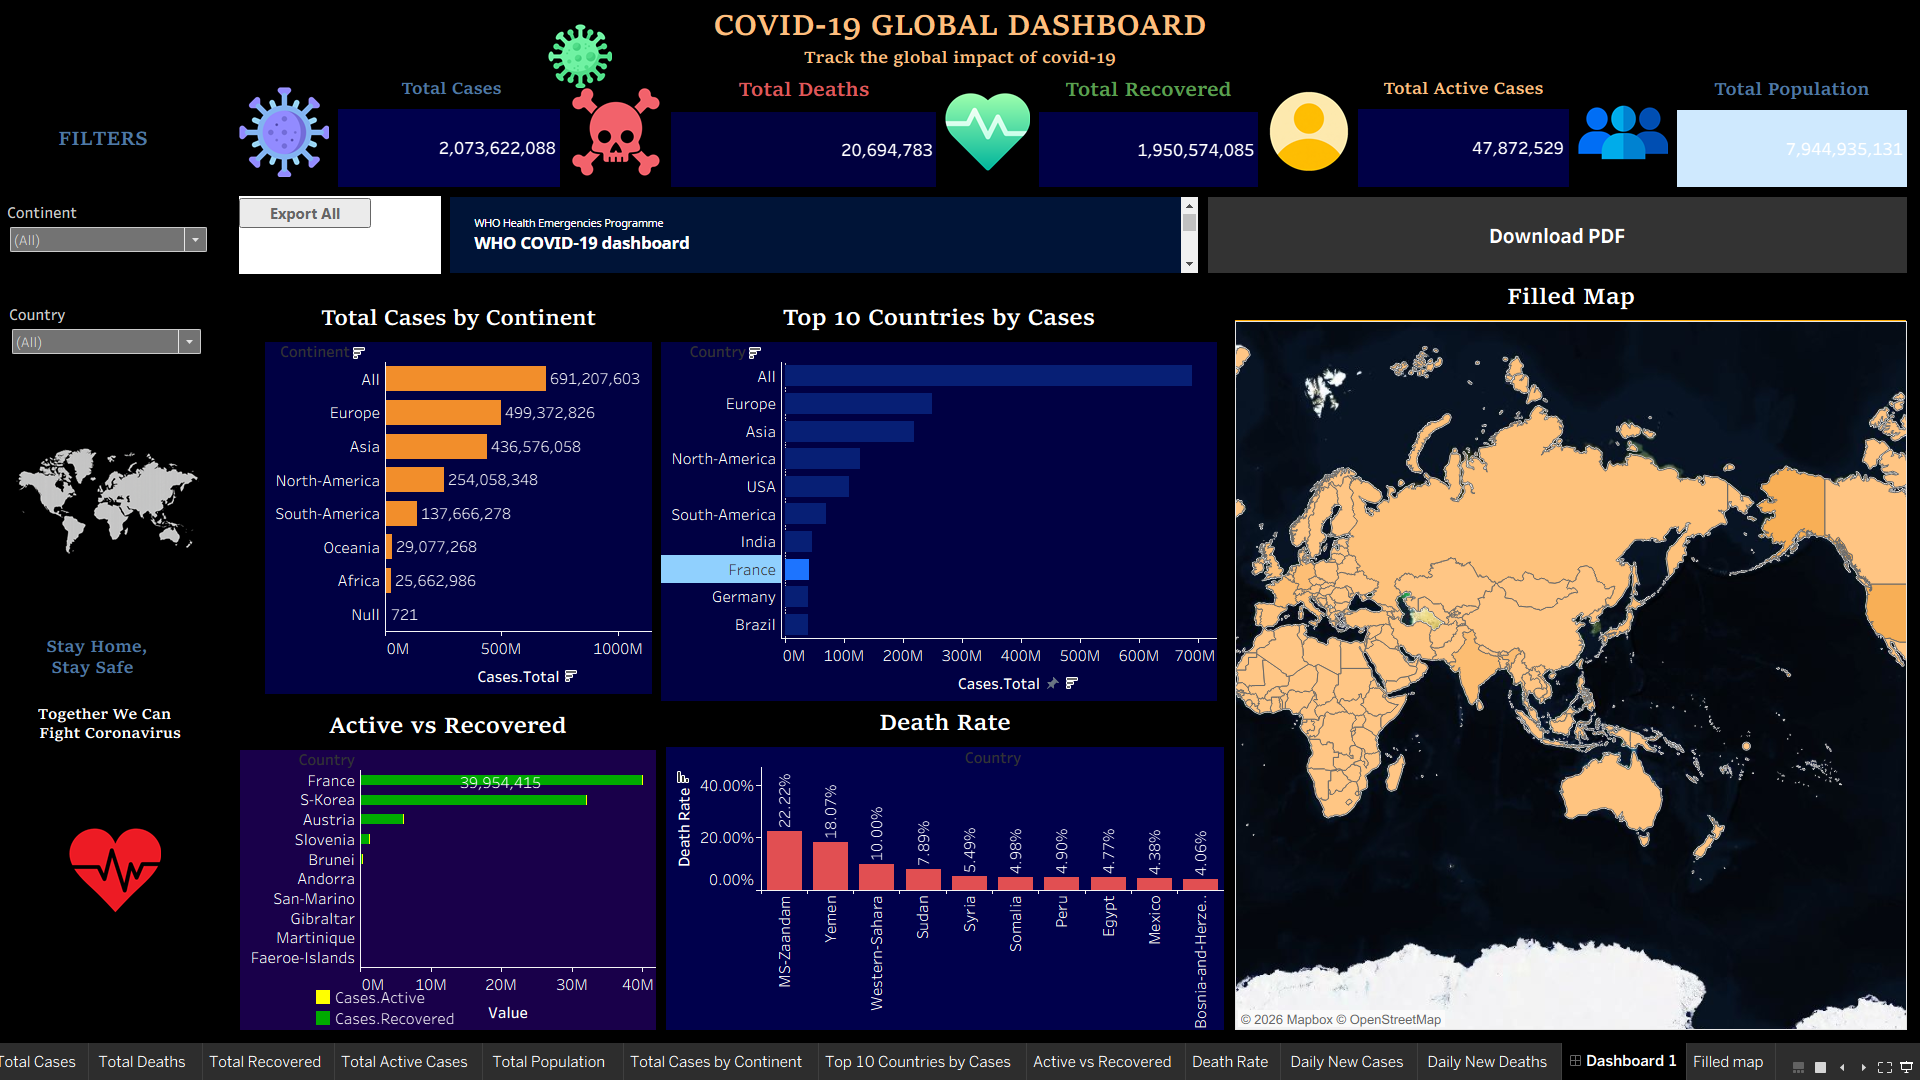

The page's visual inventory and layout, read from the dashboard file:
{"tool":"tableau","page":{"name":"Dashboard 1","canvas":[1000,1000],"units":"permille","ordinal":0},"visuals":[{"type":"title","box":[11.5,9.5,977,76.1]},{"type":"image","param":"Image/virus.png","box":[273.7,18.8,57.1,69.3]},{"type":"text","box":[11.5,85.6,116.7,904.9]},{"type":"image","param":"Image/virus (1).png","box":[128.2,85.6,50.1,112.5]},{"type":"image","param":"Image/danger.png","box":[297.1,85.6,51.8,112.5]},{"type":"image","param":"Image/ekg.png","box":[490.4,85.6,47.8,112.5]},{"type":"image","param":"Image/ChatGPT Image Jul 8, 2026, 08_36_25 PM.png","box":[655.8,85.6,45.9,112.5]},{"type":"image","param":"Image/audience.png","box":[815.3,85.6,50.1,112.5]},{"type":"text","box":[6.5,85.8,95,96.4]},{"type":"worksheet","title":" Total Cases","mark":"Automatic","box":[179.7,86.8,115.9,110.1]},{"type":"worksheet","title":" Total Deaths ","mark":"Automatic","box":[350.3,86.8,138.6,110.1]},{"type":"worksheet","title":"Total Recovered","mark":"Automatic","box":[539.6,86.8,114.8,110.1]},{"type":"worksheet","title":"Total Active Cases","mark":"Automatic","box":[703.2,86.8,110.7,110.1]},{"type":"worksheet","title":" Total Population ","mark":"Automatic","box":[866.8,86.8,120.3,110.1]},{"type":"filter","title":"Total Cases by Continent","param":"[federated.0fb30rt17e1cgw10ygbpq0j1185i].[none:Continent:nk]","box":[3.5,193.9,105.7,76.4]},{"type":"dashboard-object","param":"[com.theinformationlab.extensions.exportall].[1.0.0].[https://exportallextension","box":[128.2,198.1,107.8,81.1]},{"type":"dashboard-object","box":[624.9,198.1,363.6,81.1]},{"type":"web page","param":"https://data.who.int/dashboards/covid19","box":[237.4,199.3,386,78.7]},{"type":"worksheet","title":"Filled map","mark":"Multipolygon","box":[639.7,280.4,347.3,708.9]},{"type":"filter","title":"Filled map","param":"[federated.0fb30rt17e1cgw10ygbpq0j1185i].[none:Country:nk]","box":[4.7,291.4,101.5,81.1]},{"type":"worksheet","title":"Total Cases by Continent","mark":"Bar","rows":["Continent"],"cols":["Cases.Total"],"box":[138.2,291.4,201.5,383.1]},{"type":"worksheet","title":"Top 10 Countries by Cases","mark":"Bar","rows":["Country"],"cols":["Cases.Total"],"box":[344.5,291.4,289.4,380.7]},{"type":"image","param":"Image/ChatGPT Image Jul 8, 2026, 11_39_52 PM.png","box":[1.8,404.2,116.9,168]},{"type":"text","box":[9.5,540.5,108.7,244.4]},{"type":"worksheet","title":"Death Rate","mark":"Automatic","rows":["Calculation_1281226805153792"],"cols":["Country"],"box":[348.1,680.5,288.7,308.8]},{"type":"worksheet","title":"Active vs Recovered","mark":"Bar","rows":["Country"],"box":[129.6,683,215.6,306.3]},{"type":"image","param":"Image/heart-rate (1).png","box":[33.9,783.8,52.3,102.2]},{"type":"legend","title":"Active vs Recovered","param":"[federated.0fb30rt17e1cgw10ygbpq0j1185i].[:Measure Names]","box":[162.9,924.8,165.9,72.9]}]}

Visuals, with their boxes on the dashboard's canvas, which has no fixed pixel size, in thousandths of its width and height (x1, y1, x2, y2). These are canvas units, not pixel positions in the 1920x1080 screenshot, which may show the page scaled, cropped or inside an application window:
title: x1=12, y1=10, x2=988, y2=86
image: x1=274, y1=19, x2=331, y2=88
text: x1=12, y1=86, x2=128, y2=990
image: x1=128, y1=86, x2=178, y2=198
image: x1=297, y1=86, x2=349, y2=198
image: x1=490, y1=86, x2=538, y2=198
image: x1=656, y1=86, x2=702, y2=198
image: x1=815, y1=86, x2=865, y2=198
text: x1=6, y1=86, x2=102, y2=182
" Total Cases" worksheet: x1=180, y1=87, x2=296, y2=197
" Total Deaths " worksheet: x1=350, y1=87, x2=489, y2=197
"Total Recovered" worksheet: x1=540, y1=87, x2=654, y2=197
"Total Active Cases" worksheet: x1=703, y1=87, x2=814, y2=197
" Total Population " worksheet: x1=867, y1=87, x2=987, y2=197
"Total Cases by Continent" filter: x1=4, y1=194, x2=109, y2=270
dashboard-object: x1=128, y1=198, x2=236, y2=279
dashboard-object: x1=625, y1=198, x2=988, y2=279
web page: x1=237, y1=199, x2=623, y2=278
"Filled map" worksheet (Multipolygon marks): x1=640, y1=280, x2=987, y2=989
"Filled map" filter: x1=5, y1=291, x2=106, y2=372
"Total Cases by Continent" worksheet (Bar marks): x1=138, y1=291, x2=340, y2=674
"Top 10 Countries by Cases" worksheet (Bar marks): x1=344, y1=291, x2=634, y2=672
image: x1=2, y1=404, x2=119, y2=572
text: x1=10, y1=540, x2=118, y2=785
"Death Rate" worksheet: x1=348, y1=680, x2=637, y2=989
"Active vs Recovered" worksheet (Bar marks): x1=130, y1=683, x2=345, y2=989
image: x1=34, y1=784, x2=86, y2=886
"Active vs Recovered" legend: x1=163, y1=925, x2=329, y2=998
